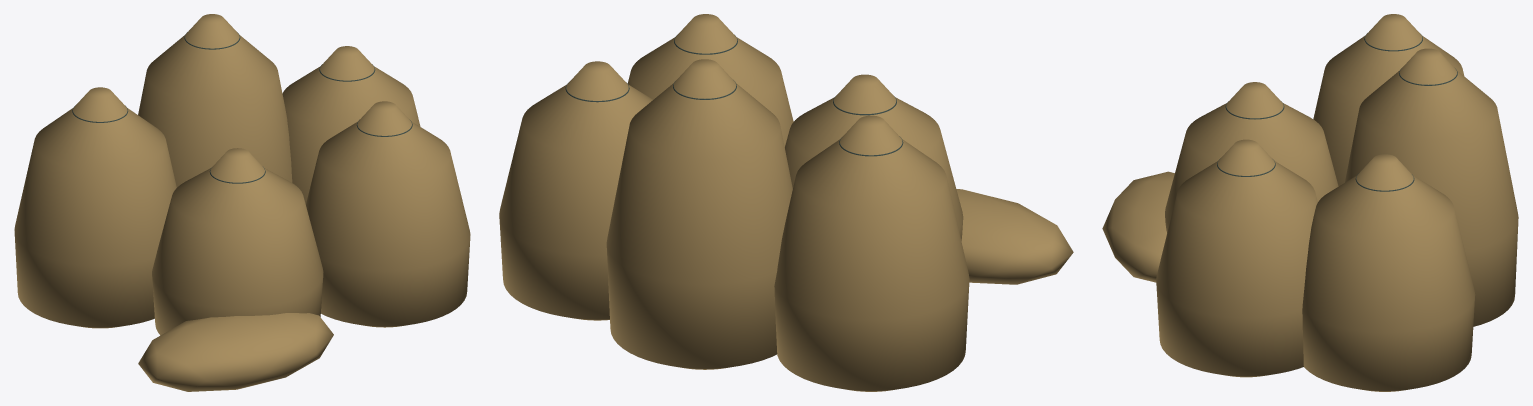
3 views of the same model, side by side, from view 1: azimuth 30°, elevation 25°; view 2: azimuth 150°, elevation 25°; view 3: azimuth 270°, elevation 25° (orthographic). The views are drawn at different scales.
Parts seen in each view (by area): view 1: TI049 / bulging woven sack, TI049 / bulging woven sack.004, TI049 / bulging woven sack.003, TI049 / bulging woven sack.001, TI049 / flat foreground grain sack, TI049 / bulging woven sack.002; view 2: TI049 / bulging woven sack.001, TI049 / bulging woven sack, TI049 / bulging woven sack.002, TI049 / flat foreground grain sack, TI049 / bulging woven sack.004, TI049 / bulging woven sack.003; view 3: TI049 / bulging woven sack.002, TI049 / bulging woven sack.004, TI049 / bulging woven sack.001, TI049 / bulging woven sack.003, TI049 / bulging woven sack, TI049 / flat foreground grain sack.
Boxes of the visible parts, box(x1,y1,x2,y2) form: TI049 / bulging woven sack: box(14, 87, 176, 328); TI049 / bulging woven sack.004: box(306, 101, 470, 327); TI049 / bulging woven sack.003: box(152, 148, 323, 335); TI049 / bulging woven sack.001: box(138, 14, 292, 187); TI049 / flat foreground grain sack: box(138, 313, 333, 391); TI049 / bulging woven sack.002: box(282, 46, 420, 204); TI049 / bulging woven sack.001: box(606, 59, 792, 369); TI049 / bulging woven sack: box(774, 115, 969, 391); TI049 / bulging woven sack.002: box(499, 61, 652, 320); TI049 / flat foreground grain sack: box(956, 189, 1073, 284); TI049 / bulging woven sack.004: box(627, 14, 793, 147); TI049 / bulging woven sack.003: box(785, 74, 963, 240); TI049 / bulging woven sack.002: box(1302, 154, 1475, 391); TI049 / bulging woven sack.004: box(1156, 139, 1317, 377); TI049 / bulging woven sack.001: box(1345, 48, 1518, 326); TI049 / bulging woven sack.003: box(1165, 82, 1338, 232); TI049 / bulging woven sack: box(1313, 14, 1464, 186); TI049 / flat foreground grain sack: box(1102, 171, 1174, 282).
Size of the model in its own units: 2.74 by 1.64 by 2.4.
